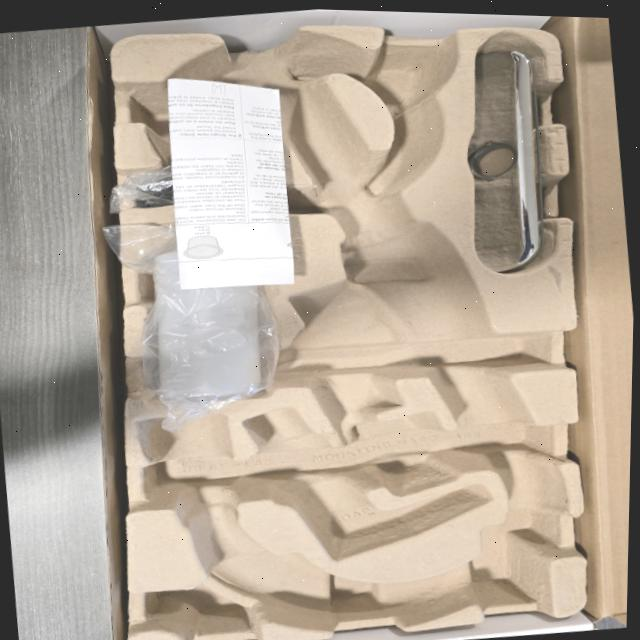1m: (140, 30, 558, 629)
2m: (236, 408, 491, 557)
3o: (147, 216, 264, 397)
4: (465, 47, 546, 271)
5m: (370, 50, 447, 106)
6m: (129, 68, 232, 143)
7o: (107, 149, 252, 212)
8: (164, 76, 295, 287)
